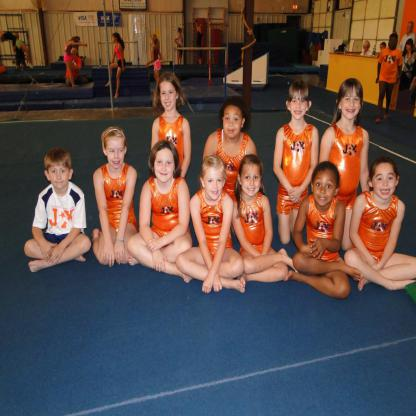face: (373, 167, 397, 200), (314, 174, 336, 206), (155, 152, 175, 183), (342, 90, 362, 120), (206, 170, 225, 200), (242, 168, 262, 196), (224, 108, 242, 139), (107, 142, 125, 169), (291, 92, 308, 120), (50, 164, 69, 189), (161, 85, 177, 111), (390, 39, 398, 50), (407, 44, 412, 51), (73, 47, 78, 54), (408, 24, 412, 32), (381, 47, 385, 54), (364, 46, 369, 51), (151, 39, 154, 45), (113, 37, 116, 42), (199, 26, 202, 30), (76, 40, 79, 43), (181, 30, 183, 34)
